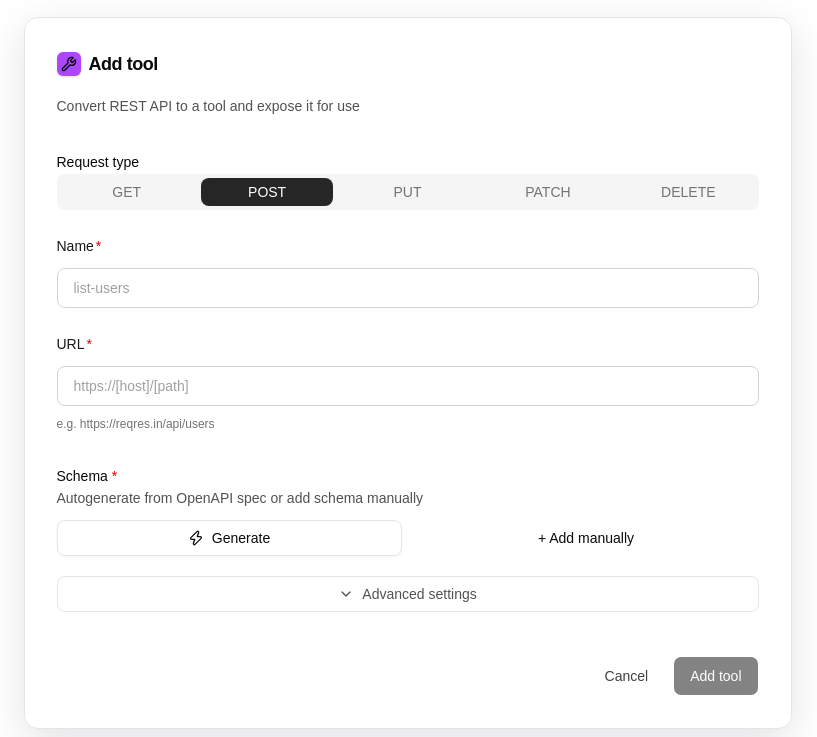
Test: ToolForm › Accessibility – schema textareas › links Output schema textarea to its label after clicking Add manually
Click the button "+ Add manually" at (586, 538), box left=414, top=520, right=758, bottom=556
(page scrolled)
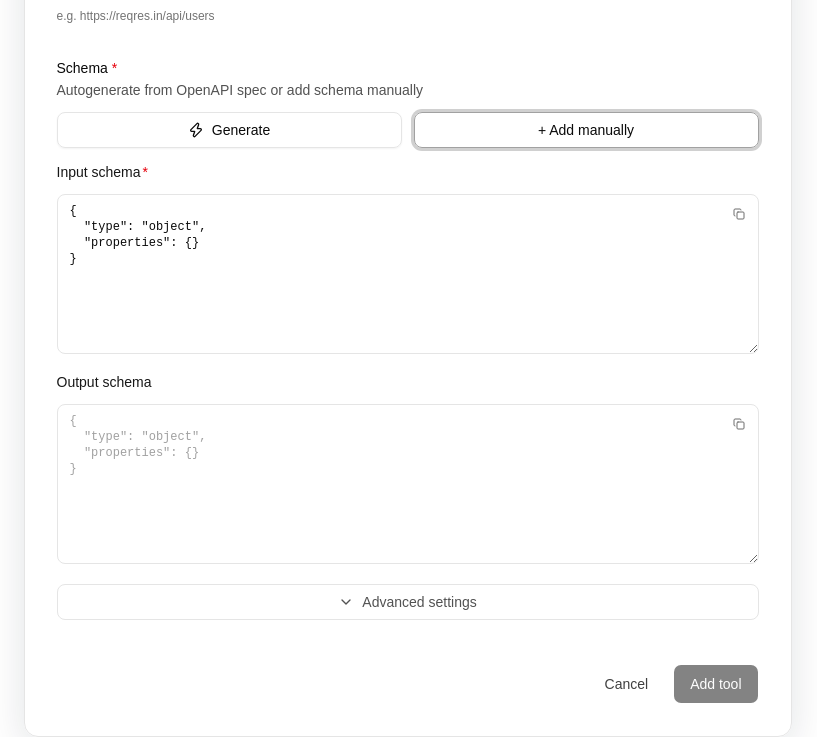
Expected: the text box labelled "Output schema" is shown, left=56, top=404, right=758, bottom=564
